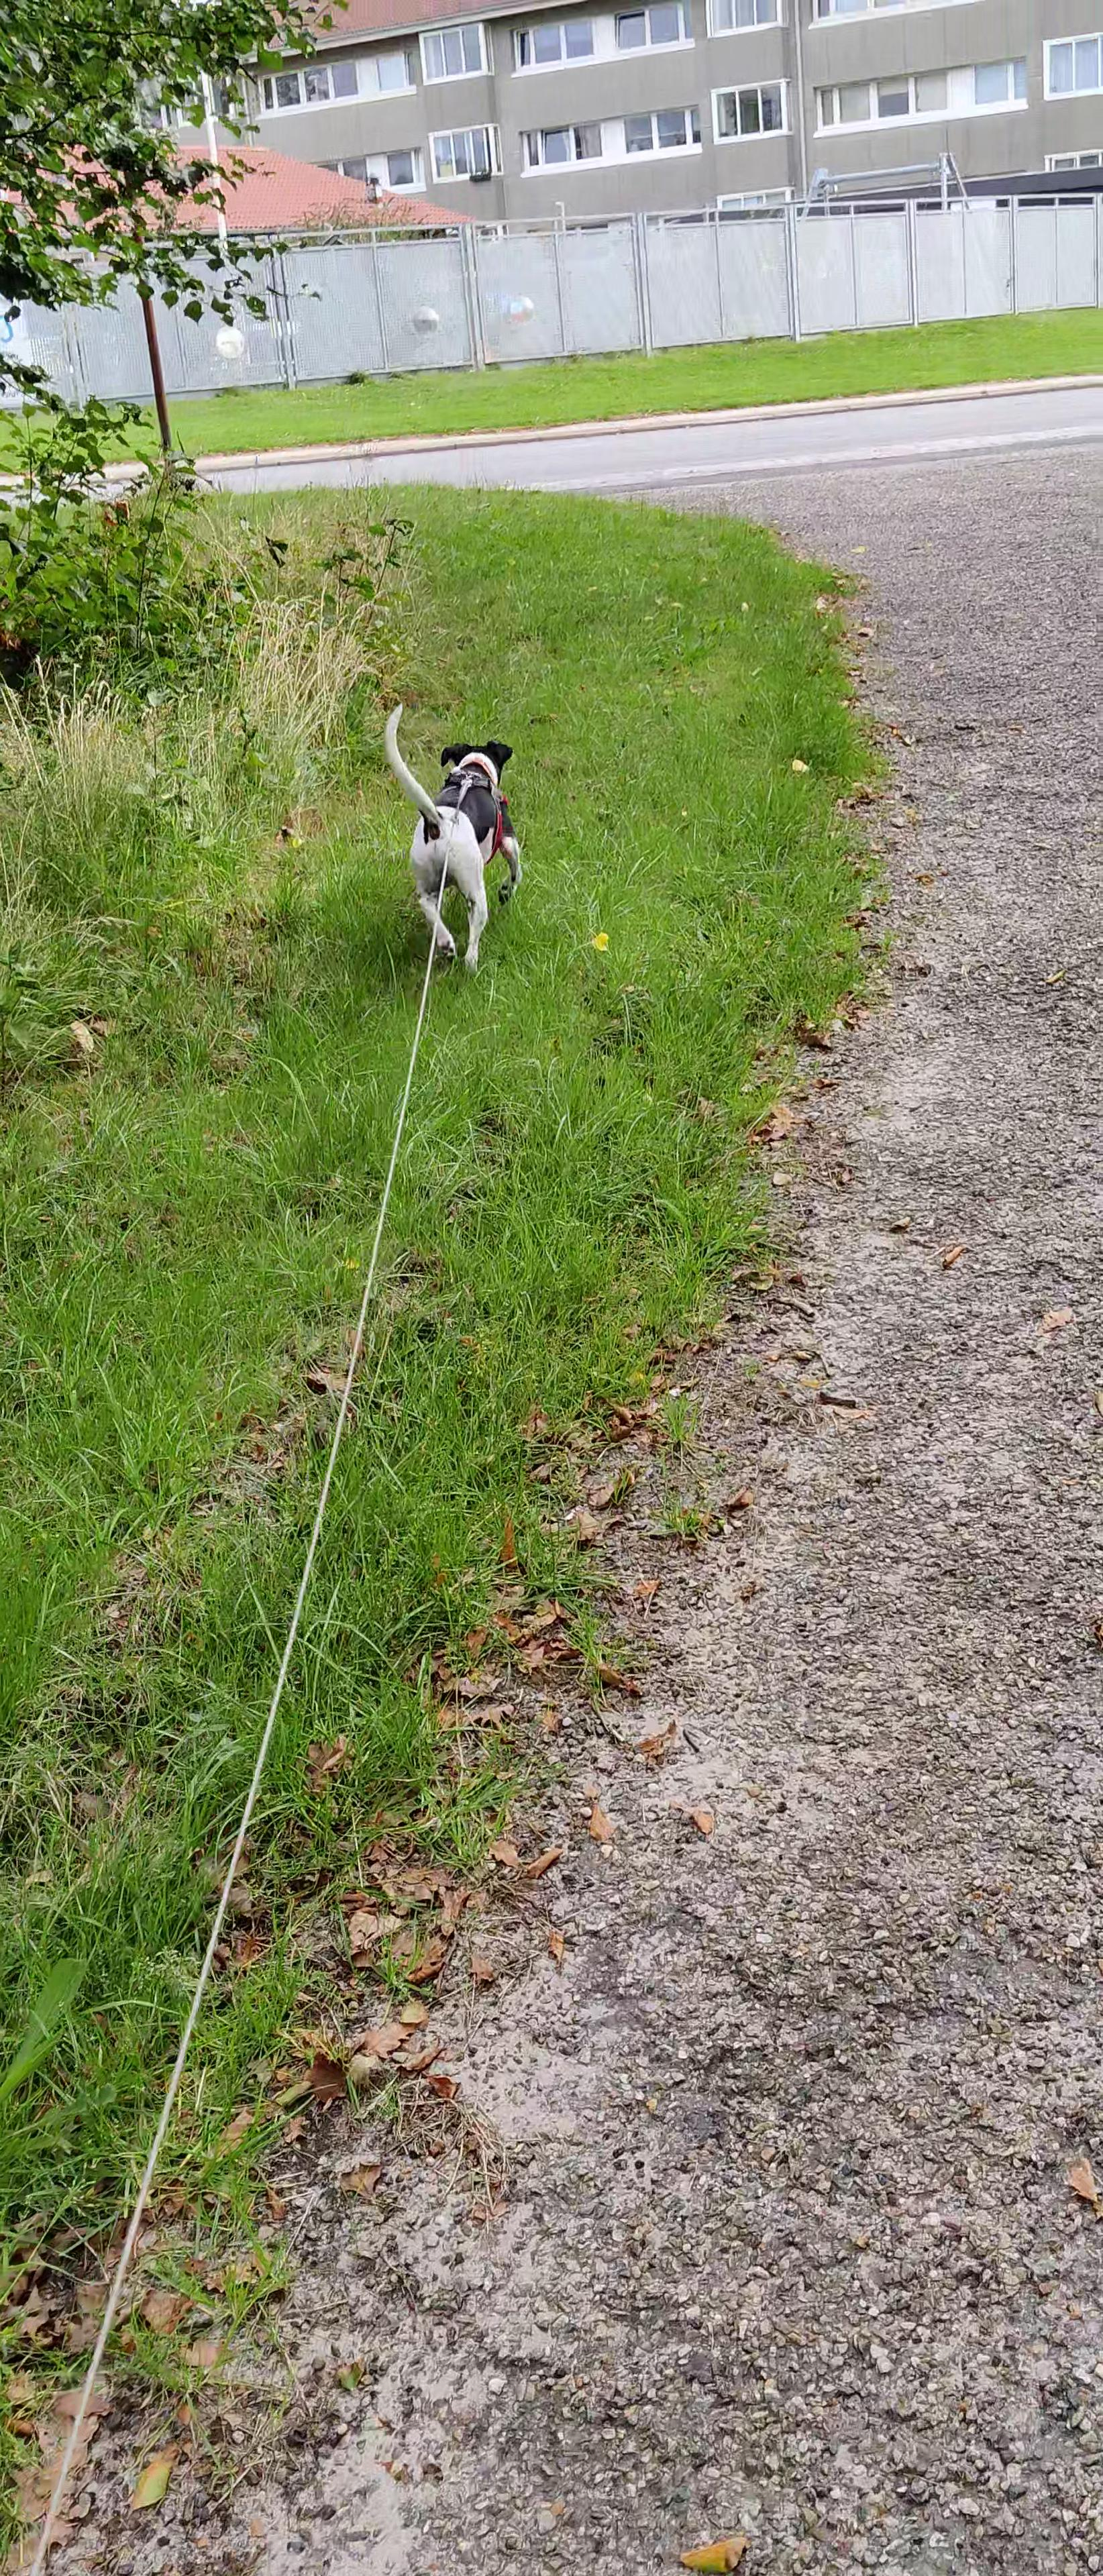Dog: (370, 678, 539, 986)
